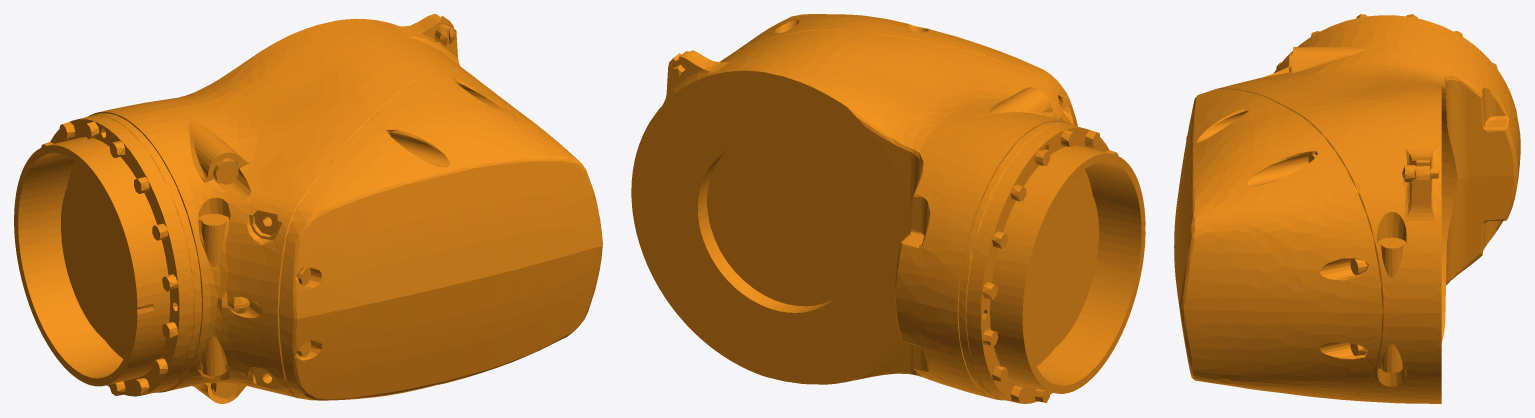
The model's file is kuka5.dae.
3 views of the same model, side by side, from view 1: azimuth 30°, elevation 25°; view 2: azimuth 150°, elevation 25°; view 3: azimuth 270°, elevation 25° (orthographic). The views are drawn at different scales.
Visible parts, largest first — view 1: 5; view 2: 5; view 3: 5.
Part boxes in pixels (bbox=[...]): 5: bbox=[14, 14, 602, 403]; 5: bbox=[631, 14, 1145, 403]; 5: bbox=[1174, 14, 1520, 403].
Bounding box in the file's own units: 0.0266 × 0.0202 × 0.0184.
